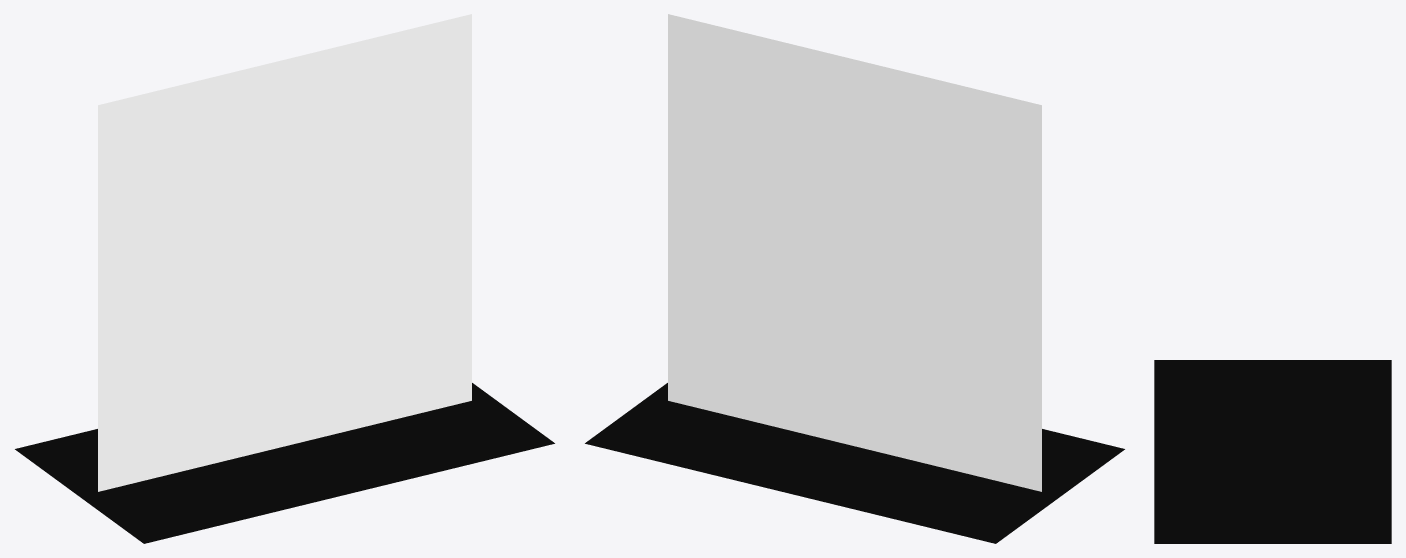
The model's file is resident.glb.
3 views of the same model, side by side, from view 1: azimuth 30°, elevation 25°; view 2: azimuth 150°, elevation 25°; view 3: azimuth 270°, elevation 25° (orthographic). The views are drawn at different scales.
Visible parts, largest first — view 1: sprite, shadow; view 2: sprite, shadow; view 3: shadow.
Boxes of the visible parts, bbox=[...] form: sprite: bbox=[98, 14, 471, 491]; shadow: bbox=[15, 383, 554, 543]; sprite: bbox=[668, 14, 1041, 491]; shadow: bbox=[585, 383, 1124, 543]; shadow: bbox=[1154, 360, 1391, 543].
Bounding box in the file's own units: 1.1 × 1 × 0.6.
2 materials, 2 textured.
